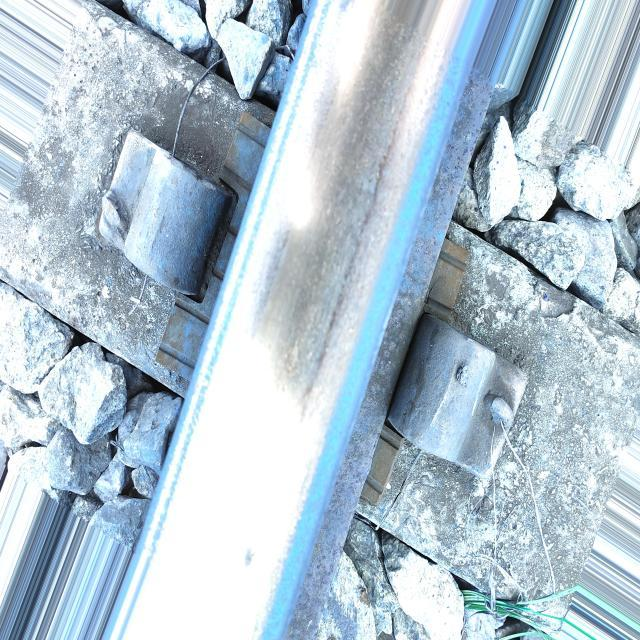Missing Fastener: (72, 96, 255, 319), (381, 301, 542, 511)
